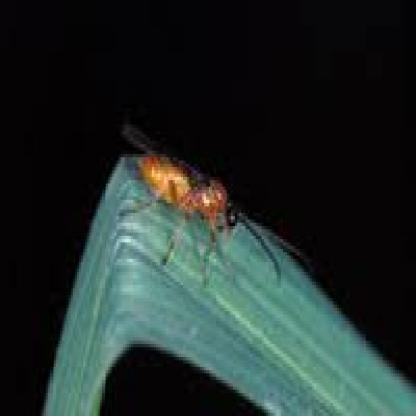sawfly: (117, 124, 305, 300)
